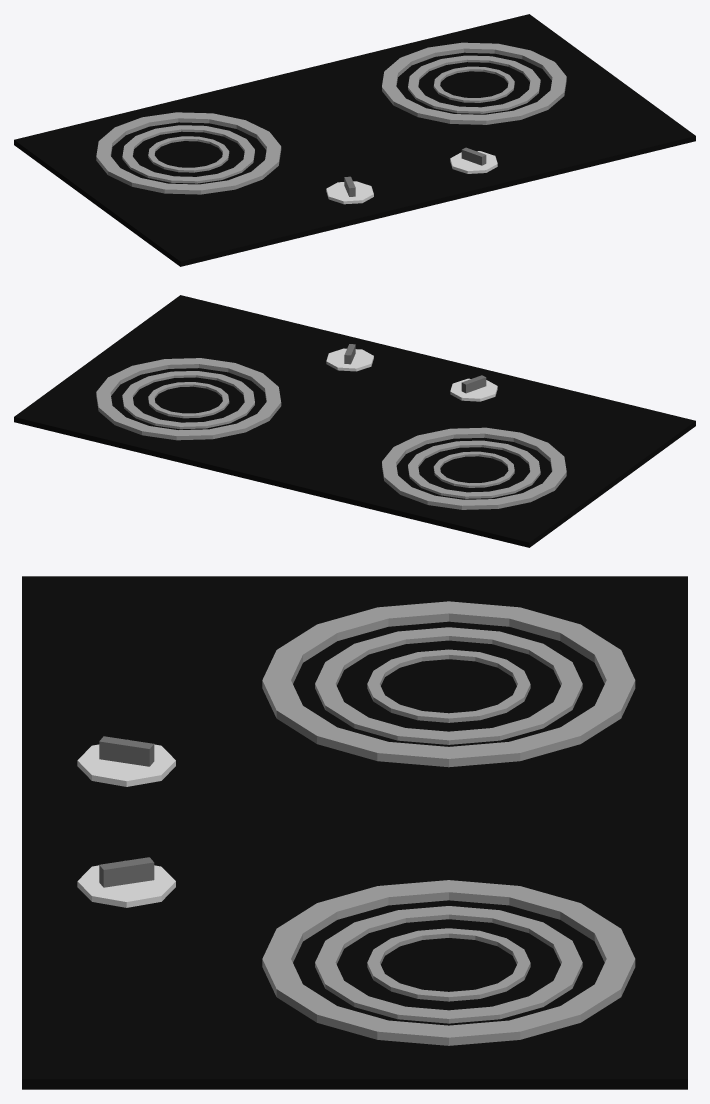
The model's file is Prop_SurfaceStove_01.fbx.
The picture shows the model from 3 angles, top to bottom: view 1: azimuth 30°, elevation 25°; view 2: azimuth 150°, elevation 25°; view 3: azimuth 270°, elevation 25°; orthographic projection. The views are drawn at different scales.
Visible parts, largest first — view 1: Prop_SurfaceStove_01; view 2: Prop_SurfaceStove_01; view 3: Prop_SurfaceStove_01.
Boxes of the visible parts, x1,y1,x2,y2 form: Prop_SurfaceStove_01: [14, 14, 695, 266]; Prop_SurfaceStove_01: [14, 295, 695, 547]; Prop_SurfaceStove_01: [22, 576, 687, 1089].
Size of the model in its own units: 115 by 3.74 by 64.2.
